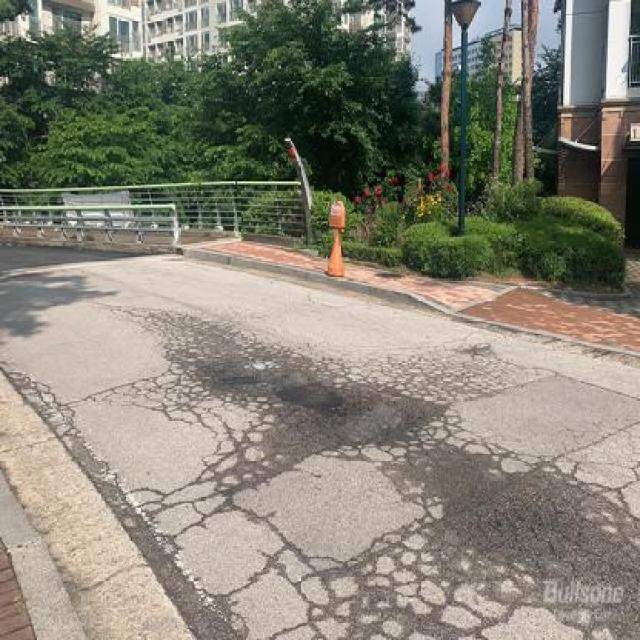Pothole: (273, 377, 350, 415)
